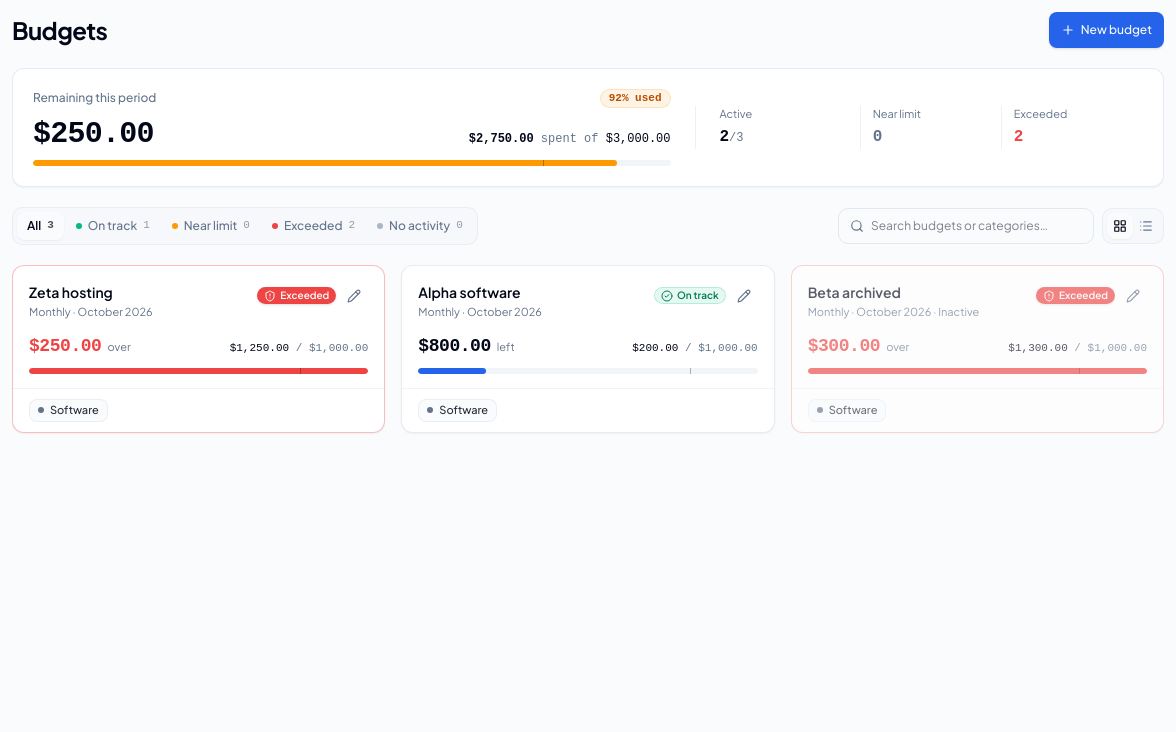
budget pages › sorts active budgets by urgency first and supports 1-tap overview filtering and card tap navigation
Expected: the element with test id "budget-card-2" is shown, [12, 264, 385, 432]
Expected: the element with test id "budget-card-2" shows "$250.00", [29, 336, 102, 356]
What coordinates should you click on to do the following:
click the button "Exceeded 2"
I would click on:
 (1072, 127)
Its box is [1002, 106, 1143, 148].
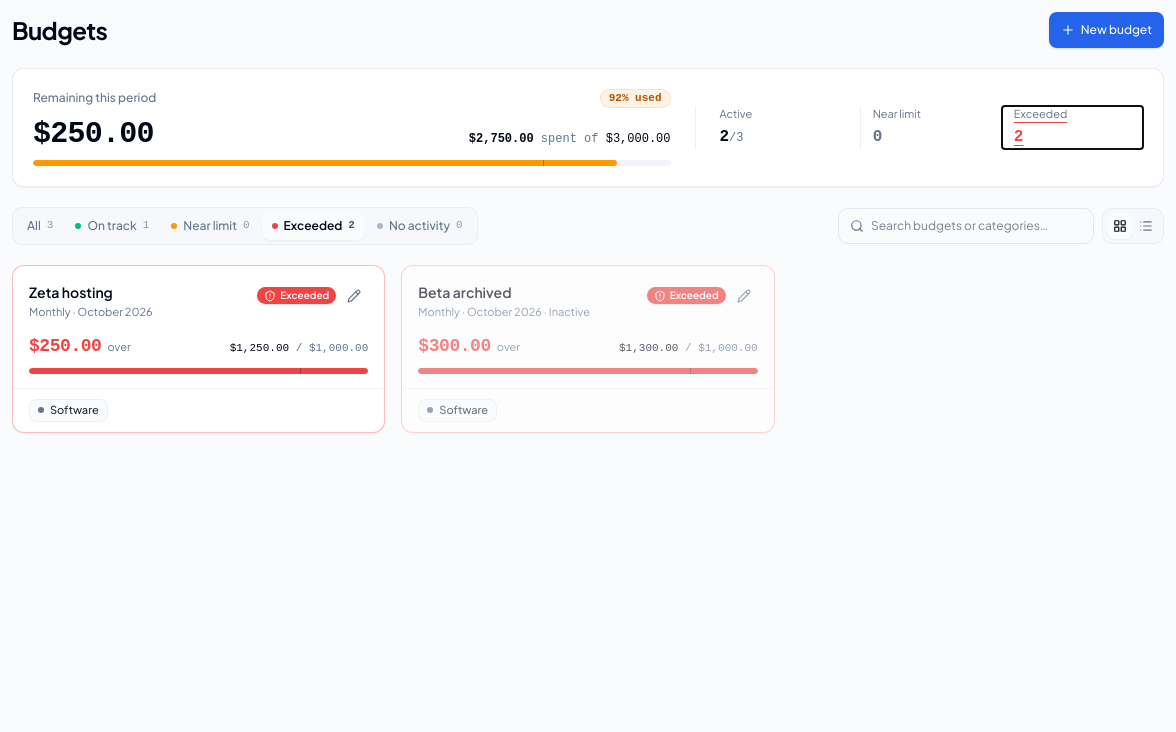
Now the element with test id "budget-card-1" is gone
# Clicking the card body navigates to budget details
What coordinates should you click on to do the following:
click the element with test id "budget-card-2"
I would click on:
 (199, 348)
Its box is [12, 264, 385, 432].
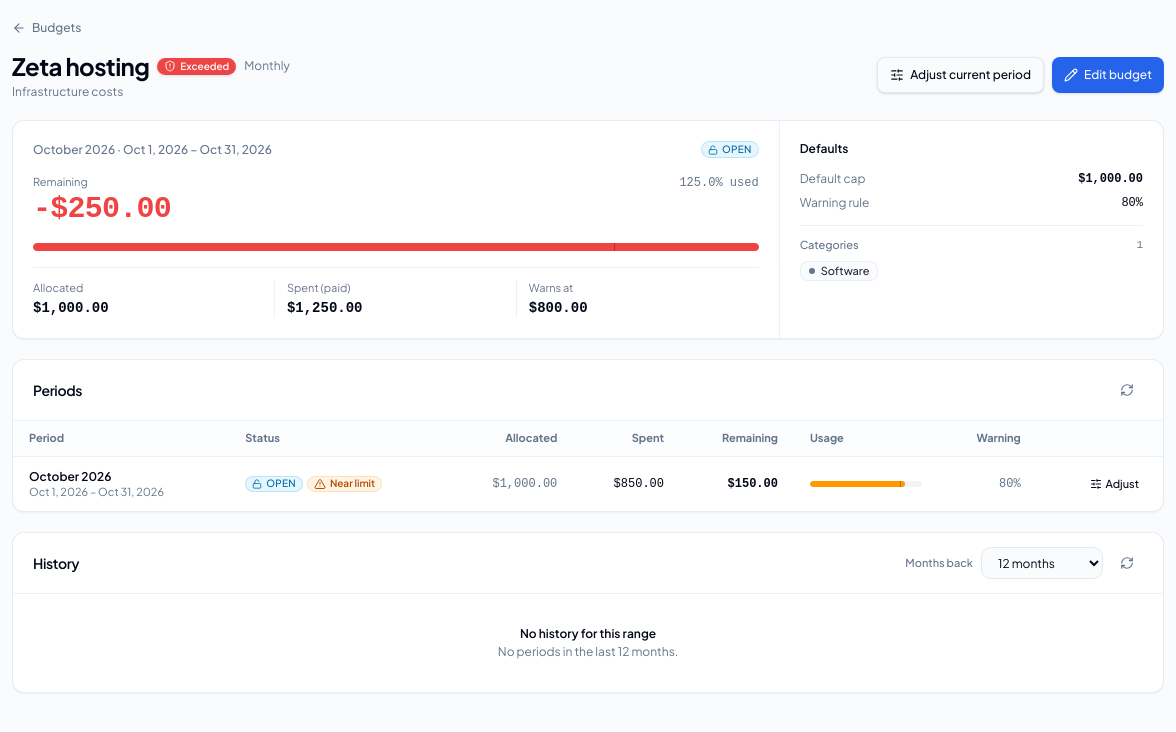
Now the heading "Zeta hosting" is shown, box [12, 50, 149, 82]
